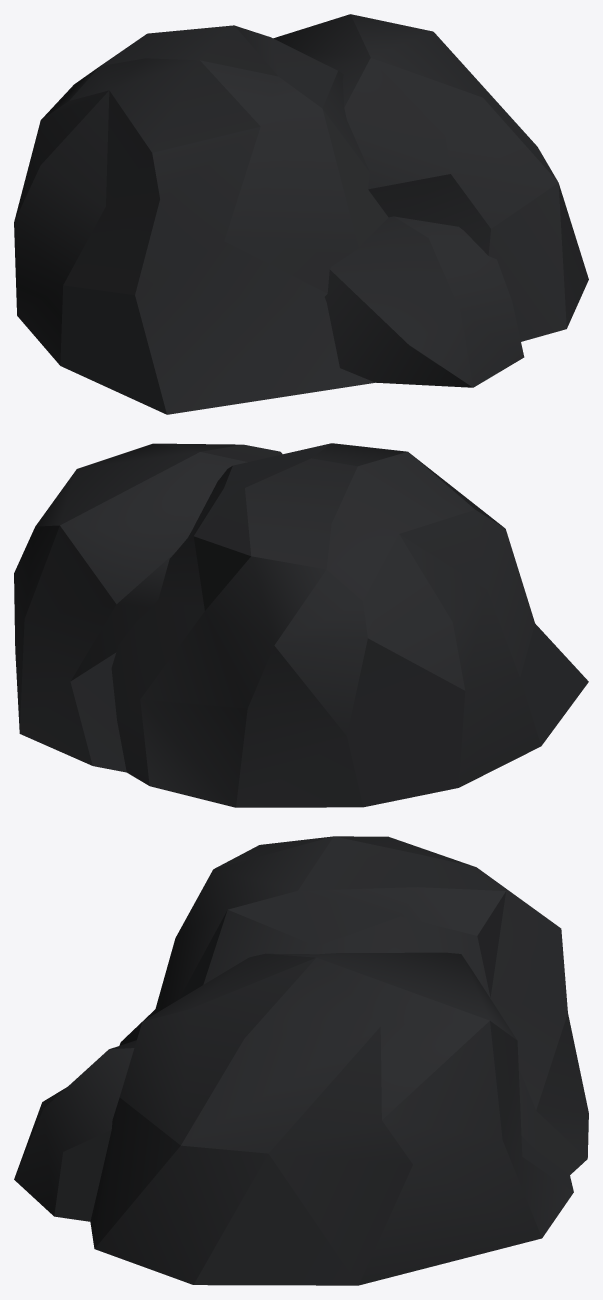
The model's file is Rocks_4.fbx.
The picture shows the model from 3 angles, top to bottom: view 1: azimuth 30°, elevation 25°; view 2: azimuth 150°, elevation 25°; view 3: azimuth 270°, elevation 25°; orthographic projection. The views are drawn at different scales.
Parts seen in each view (by area): view 1: Rocks_4; view 2: Rocks_4; view 3: Rocks_4.
Part boxes in pixels (box(x1,y1,x2,y2)): Rocks_4: box(14, 14, 588, 414); Rocks_4: box(14, 443, 588, 807); Rocks_4: box(14, 836, 588, 1285).
Bounding box in the file's own units: 51.01 × 25.23 × 47.77.
